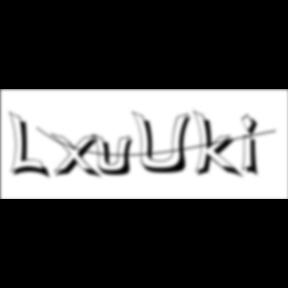L: (9, 110, 53, 182)
U: (132, 110, 196, 176)
i: (242, 112, 266, 180)
k: (192, 108, 246, 181)
u: (92, 132, 140, 178)
x: (50, 132, 106, 181)
